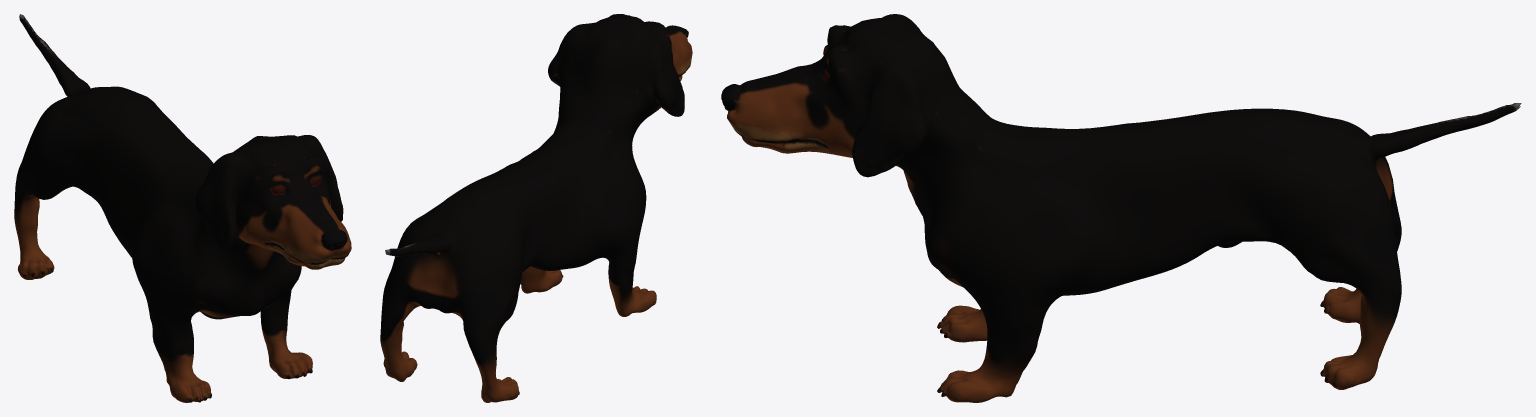
The model's file is dog_vn_added2.obj.
3 views of the same model, side by side, from view 1: azimuth 30°, elevation 25°; view 2: azimuth 150°, elevation 25°; view 3: azimuth 270°, elevation 25° (orthographic). The views are drawn at different scales.
Size of the model in its own units: 1.57 by 2.81 by 6.01.
1 material, 1 textured.
